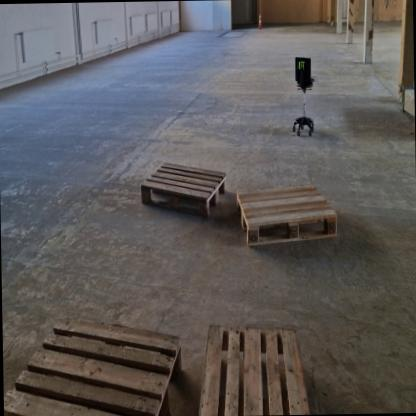BoxFace: (3, 310, 184, 416), (196, 321, 311, 413), (234, 183, 339, 248), (140, 158, 229, 222)
